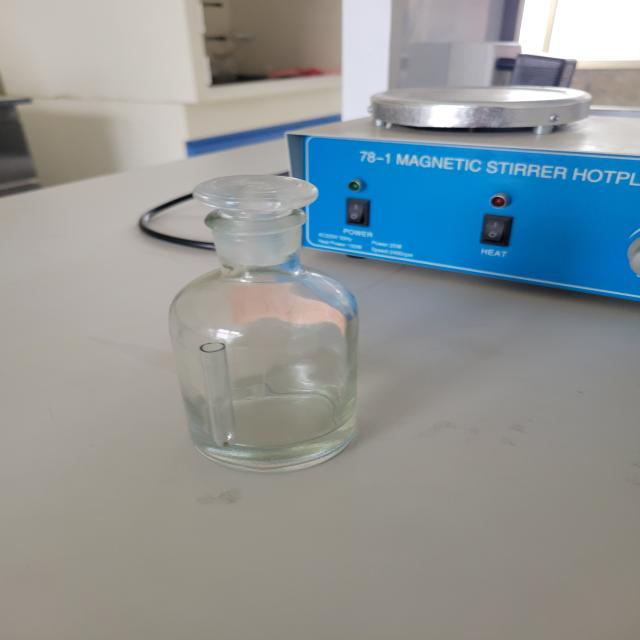Reagent_Bottle: (134, 116, 433, 507)
